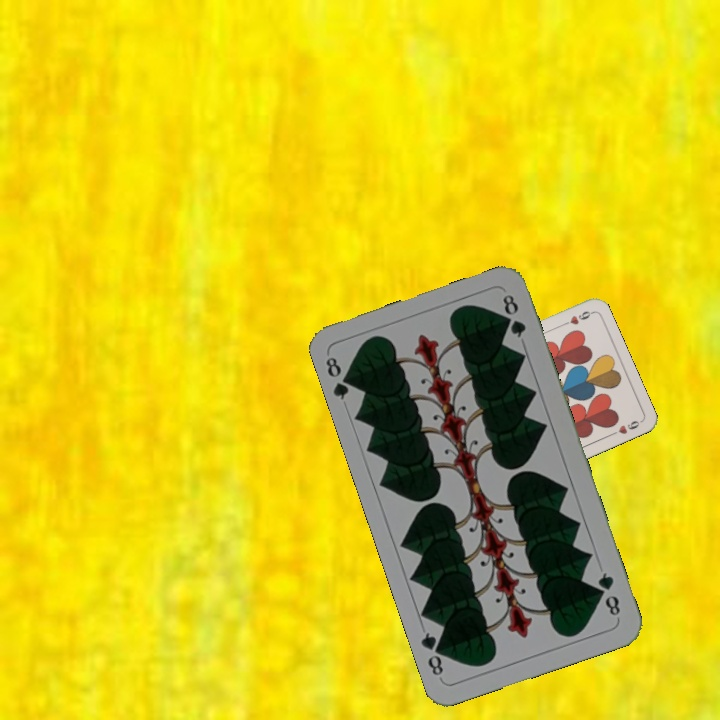G8: (321, 353, 357, 403), (594, 568, 623, 619)
H9: (555, 307, 594, 330)
